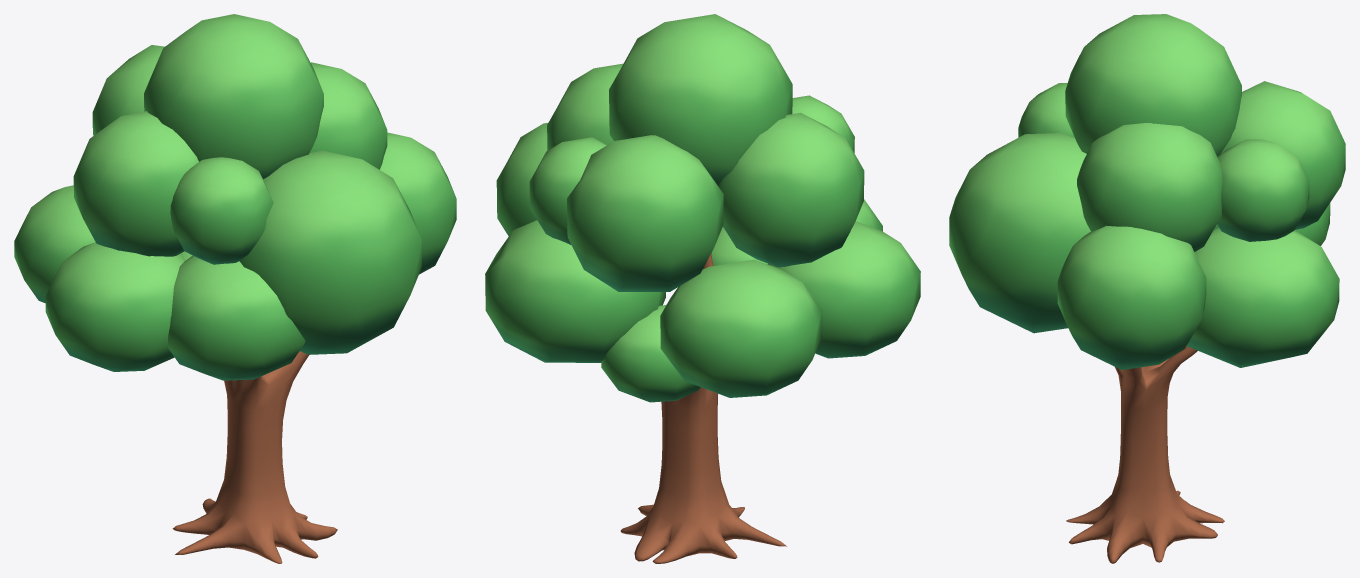
Rendered from Trees.fbx.
The picture shows the model from 3 angles, left to right: view 1: azimuth 30°, elevation 25°; view 2: azimuth 150°, elevation 25°; view 3: azimuth 270°, elevation 25°; orthographic projection. The views are drawn at different scales.
Parts seen in each view (by area): view 1: Sphere.001; view 2: Sphere.001; view 3: Sphere.001.
Part boxes in pixels (x1,y1,x2,y2): Sphere.001: (14, 14, 456, 563); Sphere.001: (485, 14, 920, 563); Sphere.001: (949, 14, 1345, 563).
Size of the model in its own units: 441 by 553 by 392.
